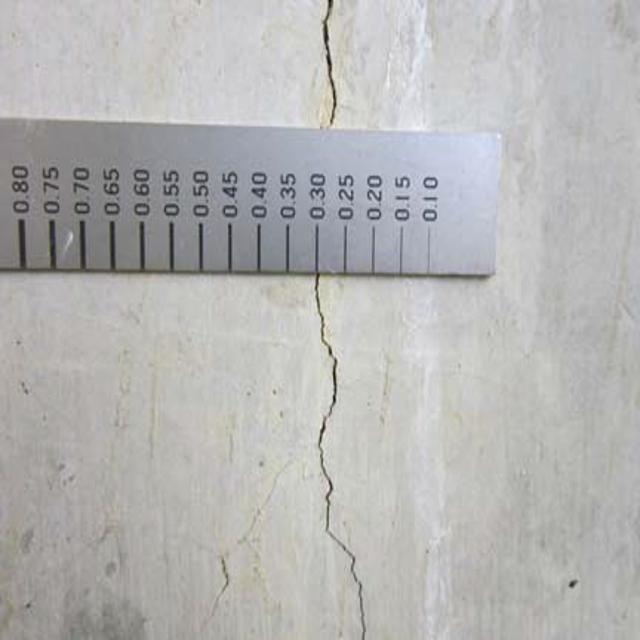crack: (284, 275, 405, 640), (57, 481, 263, 630), (310, 0, 369, 140)
